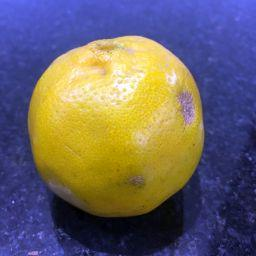Unripe: (29, 36, 204, 217)
